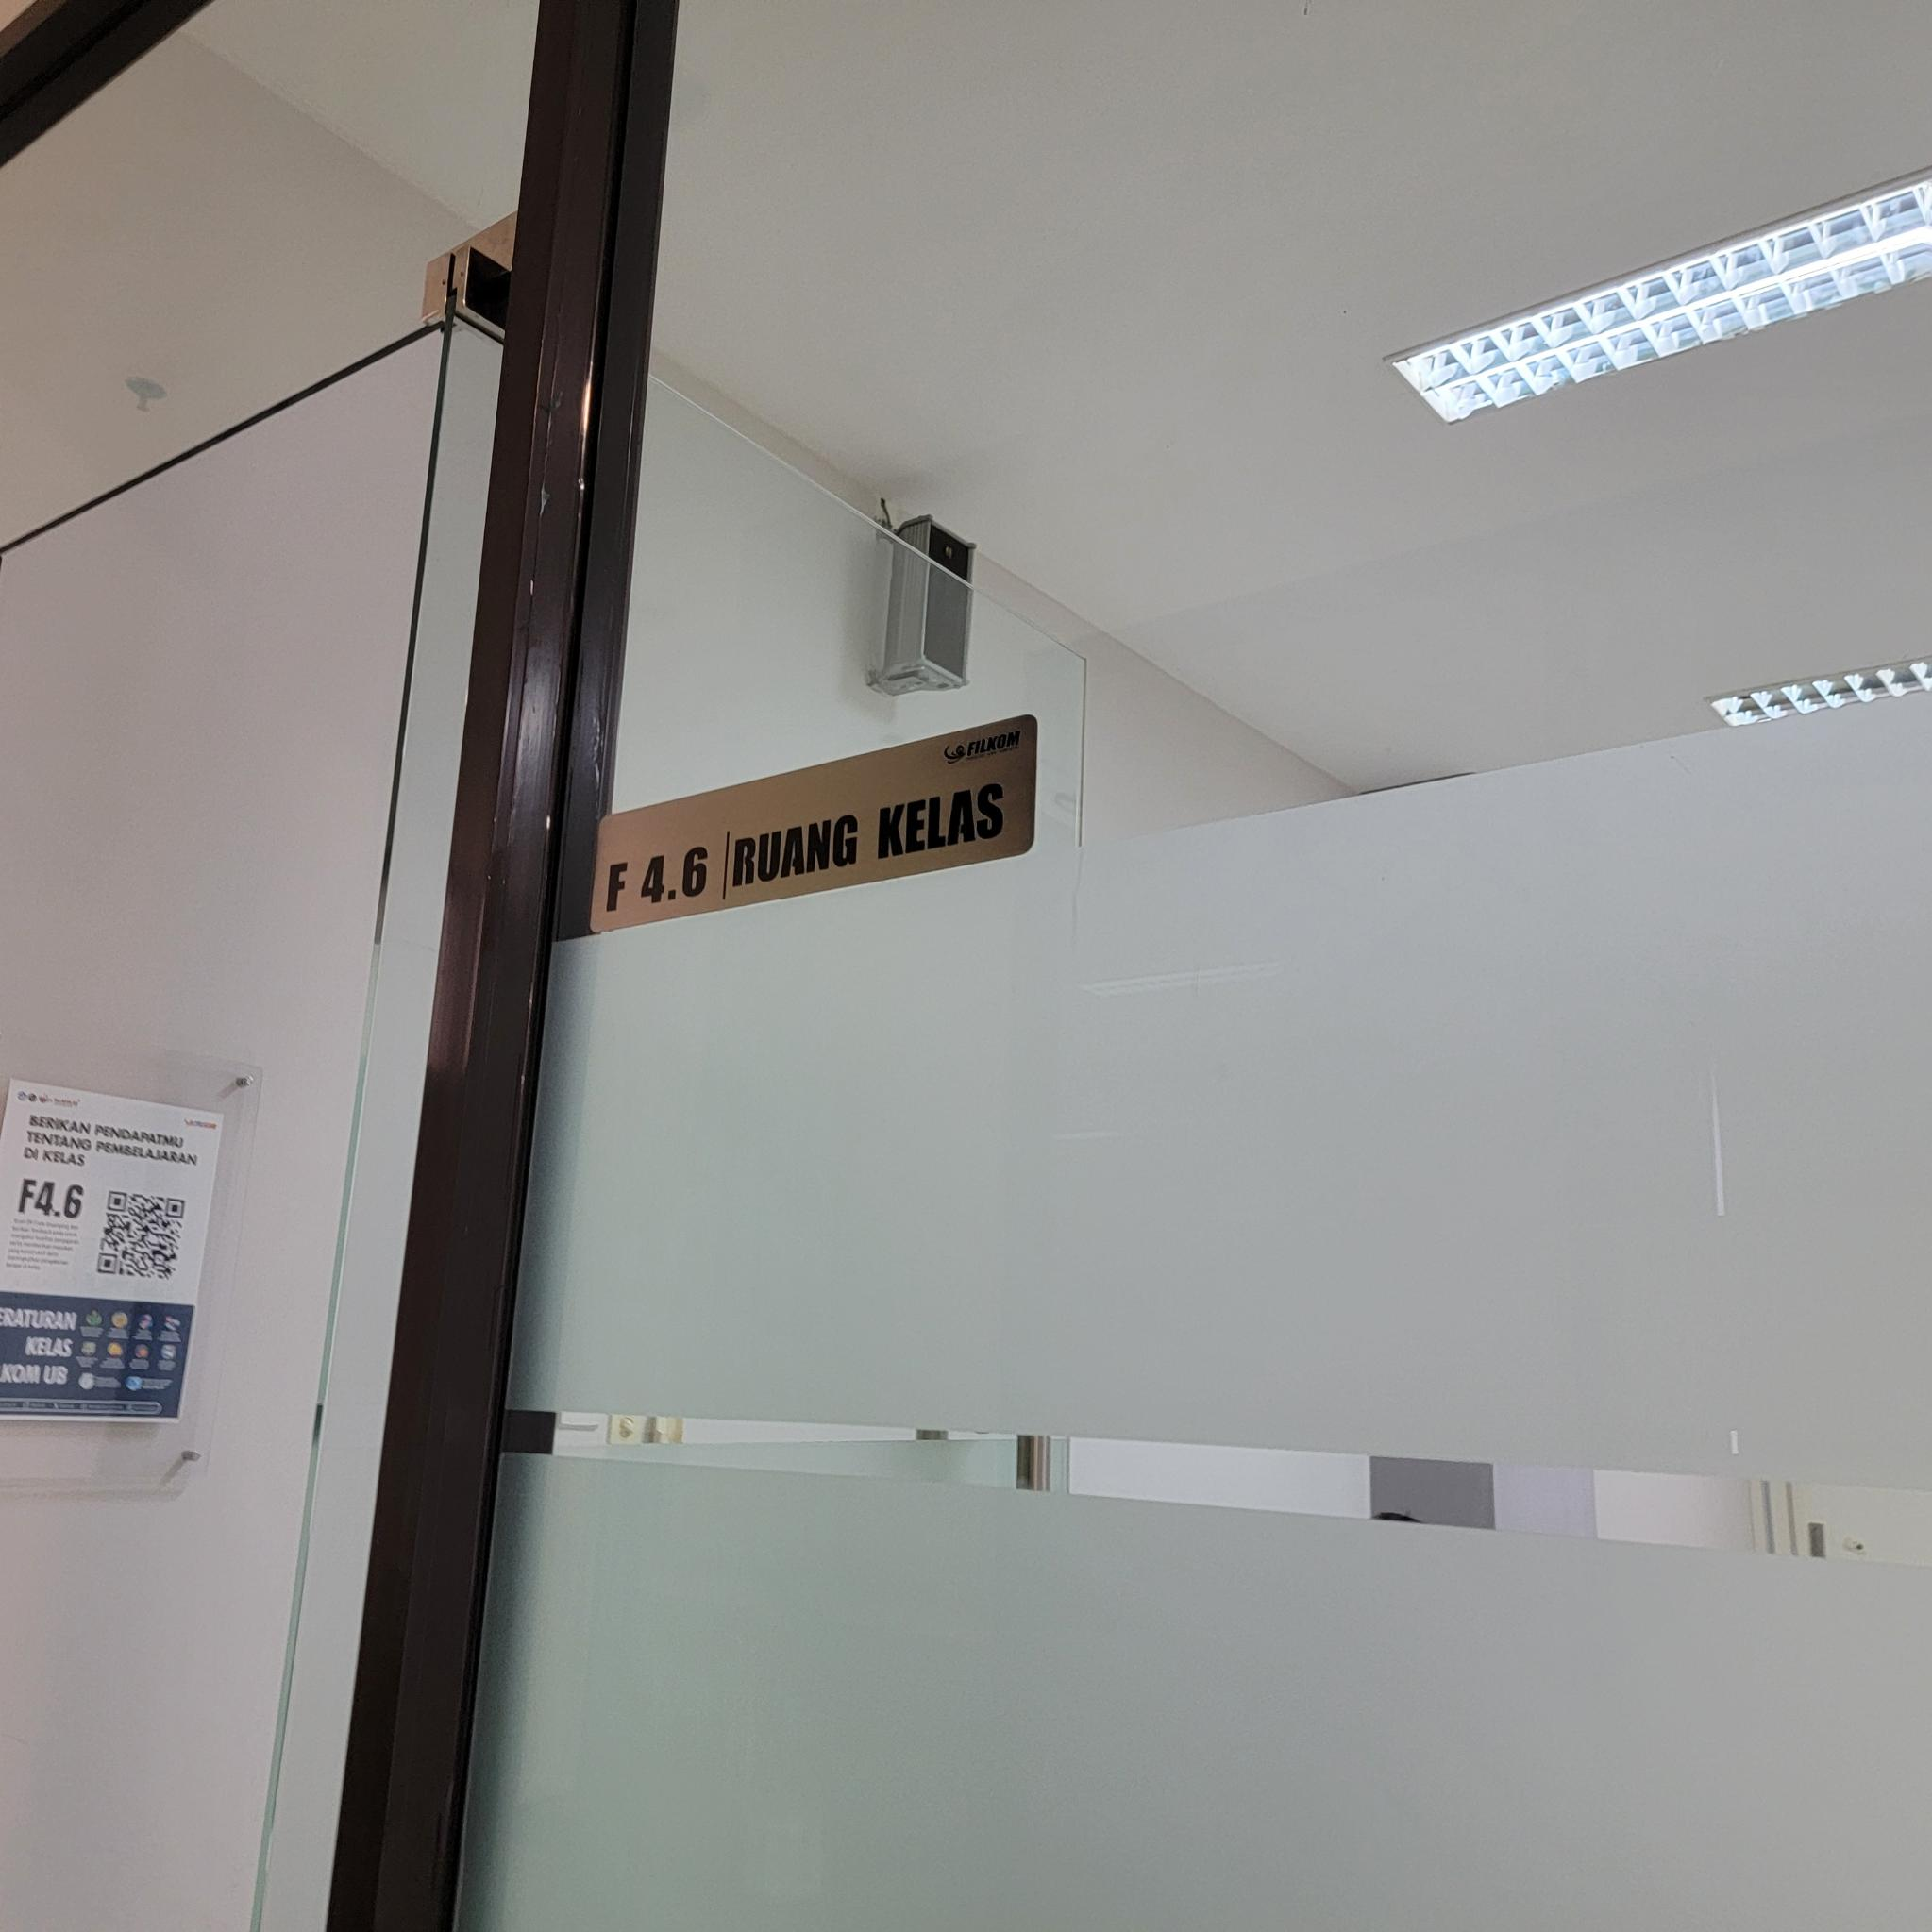plate: (589, 715, 1039, 938)
